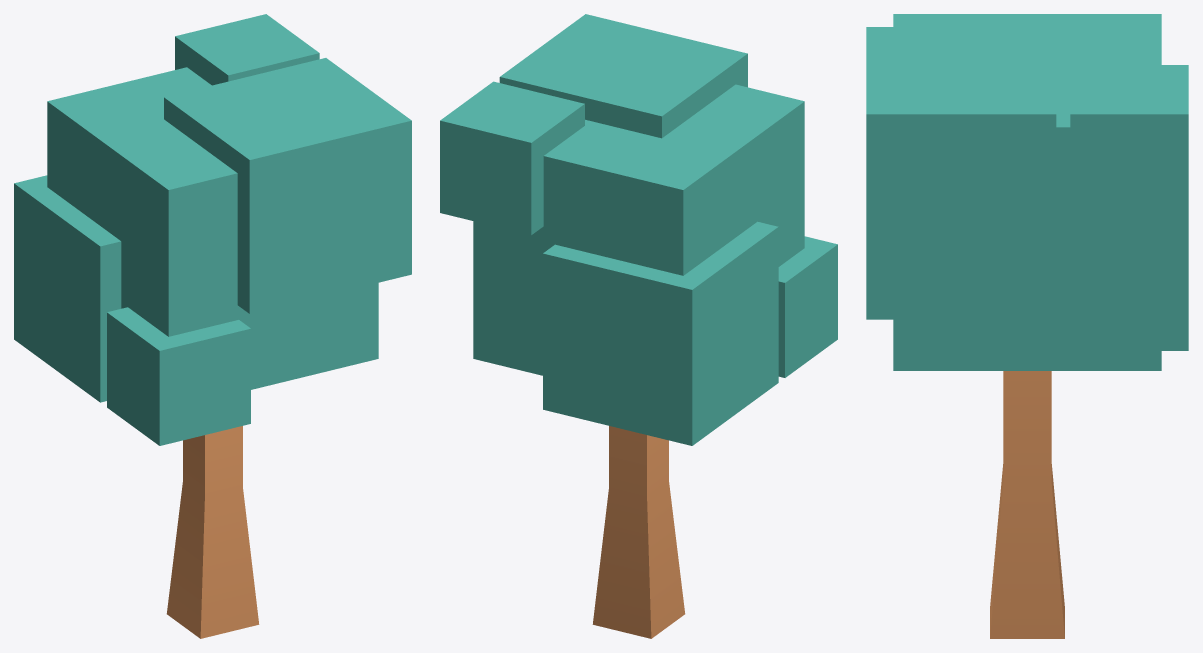
Rendered from tree_blocks.obj.
3 views of the same model, side by side, from view 1: azimuth 30°, elevation 25°; view 2: azimuth 150°, elevation 25°; view 3: azimuth 270°, elevation 25° (orthographic). The views are drawn at different scales.
Parts seen in each view (by area): view 1: tree_blocks; view 2: tree_blocks; view 3: tree_blocks.
Boxes of the visible parts, left/top/right/bottom form: tree_blocks: left=14, top=14, right=411, bottom=638; tree_blocks: left=440, top=14, right=837, bottom=638; tree_blocks: left=866, top=14, right=1188, bottom=638.
Size of the model in its own units: 6 by 11.85 by 6.
